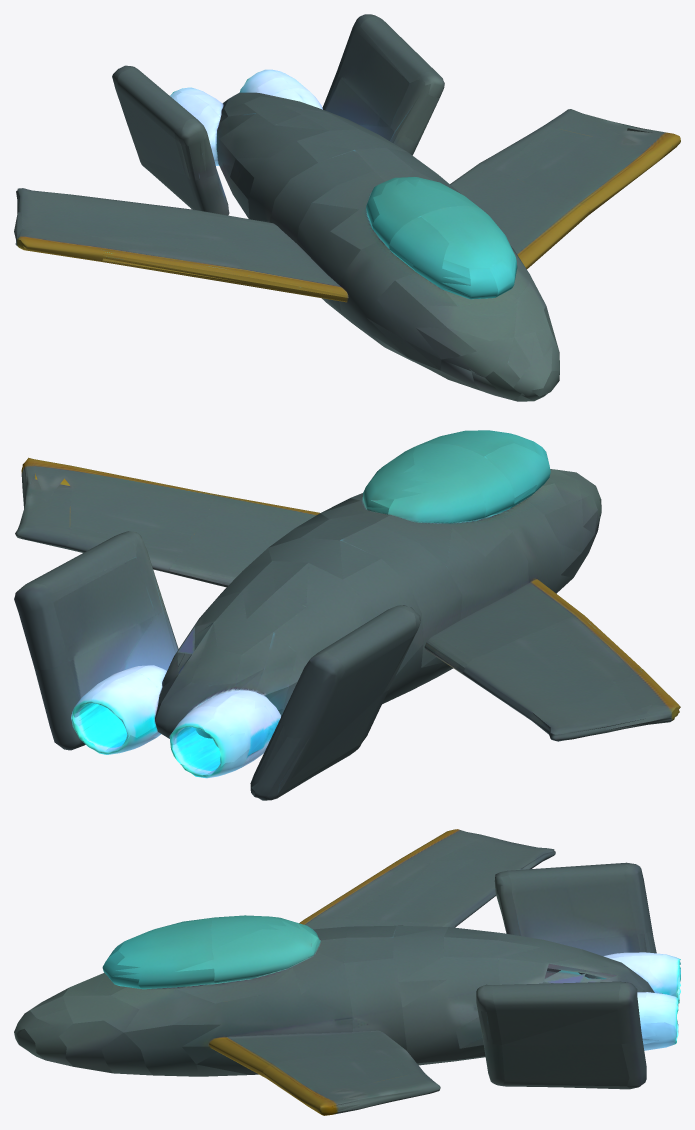
File: stealth-wing.glb
3 views of the same model, one above another, from view 1: azimuth 30°, elevation 25°; view 2: azimuth 150°, elevation 25°; view 3: azimuth 270°, elevation 25° (orthographic). The views are drawn at different scales.
Size of the model in its own units: 1 by 0.2476 by 0.9863.
Materials: 1 (1 with a texture image).
